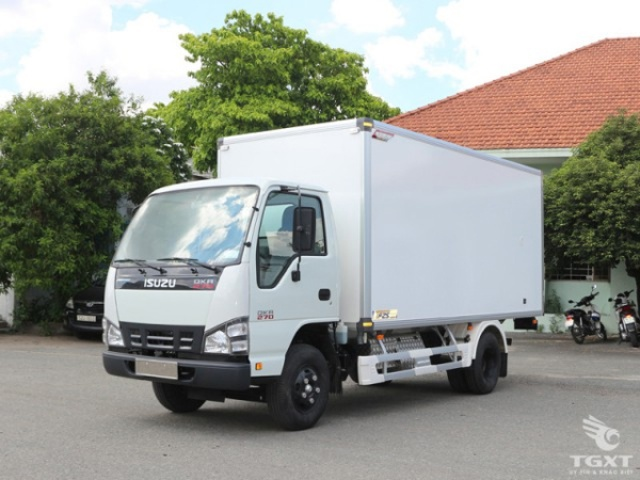Xe_tai_thung: (97, 112, 548, 433)
